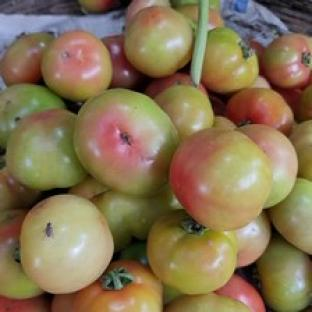Tomato: (74, 88, 178, 196), (169, 127, 272, 229), (20, 194, 114, 293), (147, 209, 236, 295), (6, 109, 87, 190), (91, 187, 174, 252), (42, 30, 112, 101), (124, 6, 193, 77), (239, 124, 298, 207), (72, 260, 162, 311), (0, 84, 66, 149), (257, 233, 311, 311), (0, 209, 44, 299), (202, 27, 259, 93), (225, 88, 293, 136), (155, 85, 214, 140), (268, 179, 311, 254), (0, 33, 54, 86), (260, 34, 310, 89), (102, 34, 146, 89), (236, 211, 271, 267), (215, 273, 266, 311), (0, 166, 41, 211), (163, 293, 250, 311), (290, 120, 311, 181), (144, 72, 193, 98), (67, 175, 108, 199), (0, 296, 50, 311), (296, 85, 311, 122), (175, 3, 199, 25), (51, 292, 75, 311)
